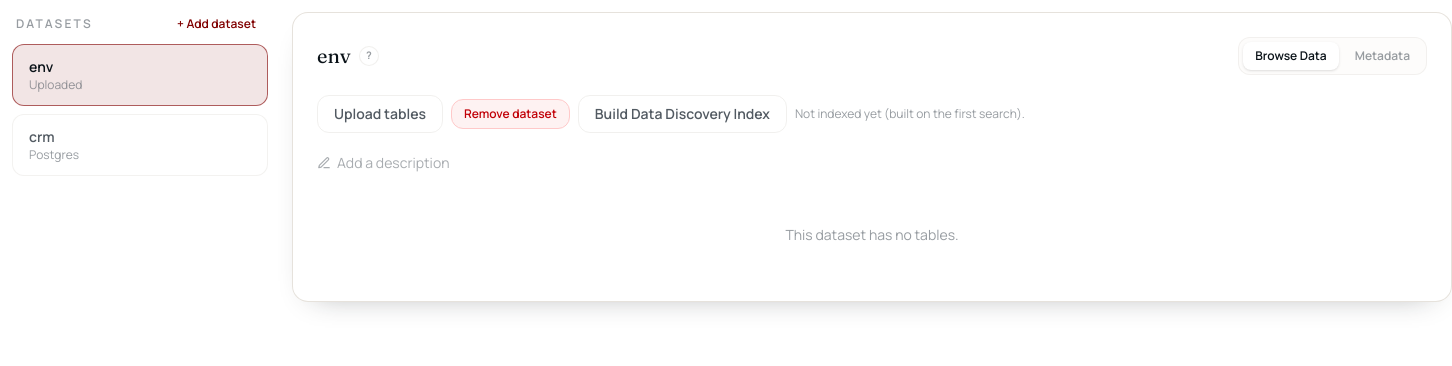
Test: DatasetManagementPanel › shows upload for local datasets, edit for connected ones, and removes
This screenshot has width=1452, height=366.
Expected: the button "Upload tables" is shown, [317,95,443,133]
Expected: the text "Uploaded" is shown, [29,76,82,93]
Step 1. Click the button "crm Postgres" → coordinates (140, 145), box [12,114,268,176]
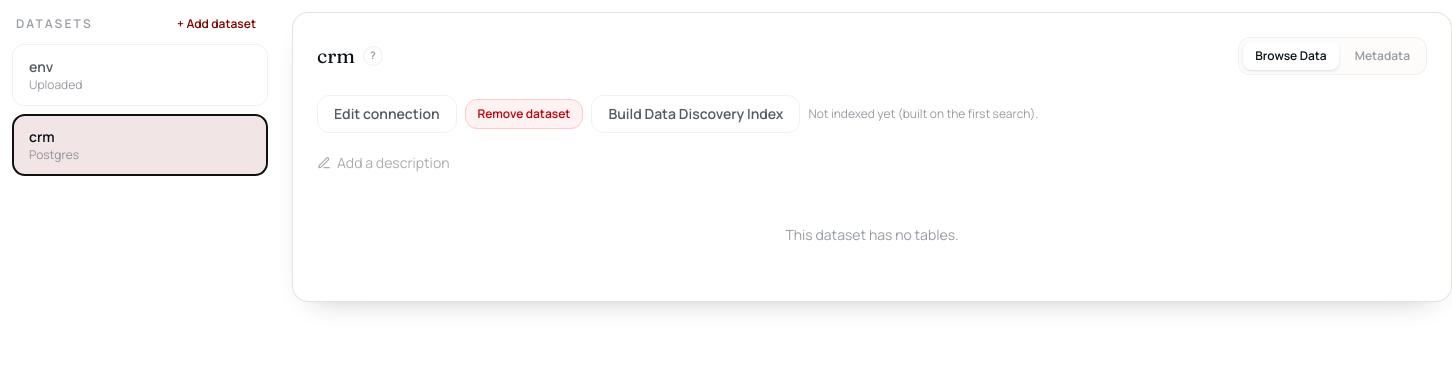
Now the button "Edit connection" is shown, box [317,95,456,133]
Now the button "Upload tables" is gone
Step 2. Click the button "Remove dataset" → coordinates (524, 114), box [464,99,583,129]
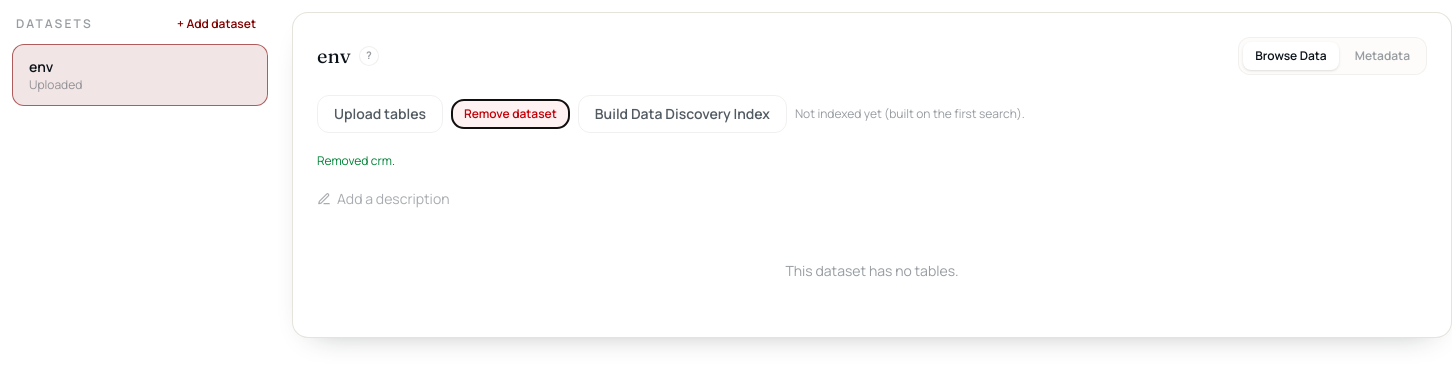
Now the text "Removed crm." is shown, box [317,152,395,169]
